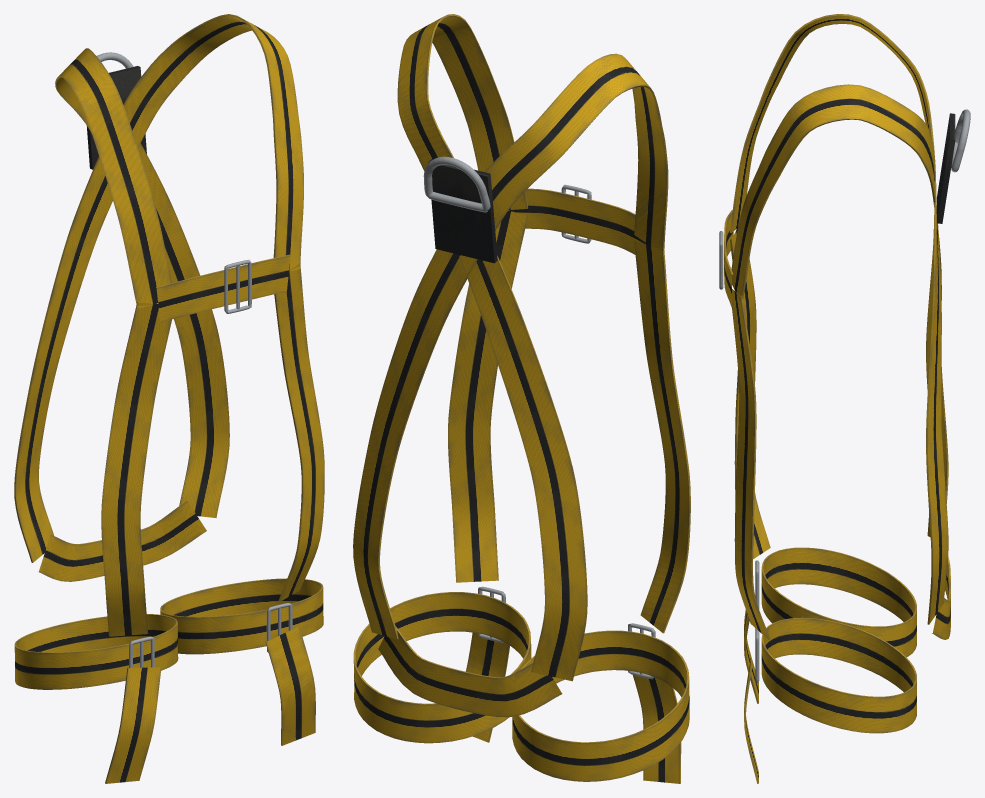
Rendered from SM_Harnais.glb.
3 renders of one model, left to right at view 1: azimuth 30°, elevation 25°; view 2: azimuth 150°, elevation 25°; view 3: azimuth 270°, elevation 25°, orthographic. The views are drawn at different scales.
Parts seen in each view (by area): view 1: SM_Harnais; view 2: SM_Harnais; view 3: SM_Harnais.
Part boxes in pixels (x1,y1,x2,y2): SM_Harnais: (14, 14, 324, 783); SM_Harnais: (353, 14, 690, 783); SM_Harnais: (719, 14, 970, 783).
Bounding box in the file's own units: 0.377 × 0.8688 × 0.2872.
3 materials, 2 textured.
